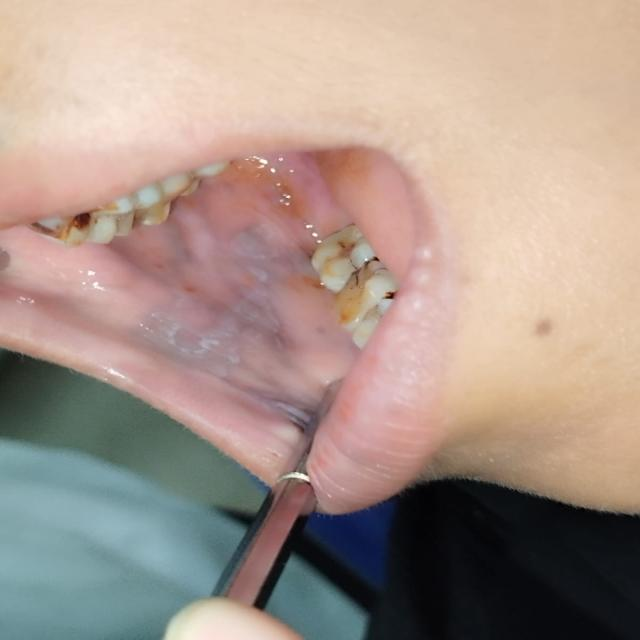leukoplakia-detection: (107, 204, 332, 402)
processing_area: (0, 152, 419, 451)
